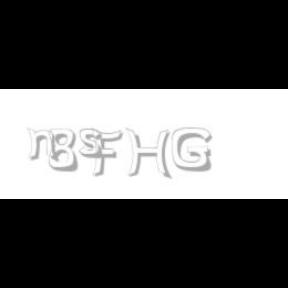8: (48, 128, 78, 172)
F: (90, 128, 122, 178)
G: (172, 128, 212, 172)
H: (125, 128, 171, 180)
n: (26, 128, 60, 162)
s: (79, 128, 107, 160)
